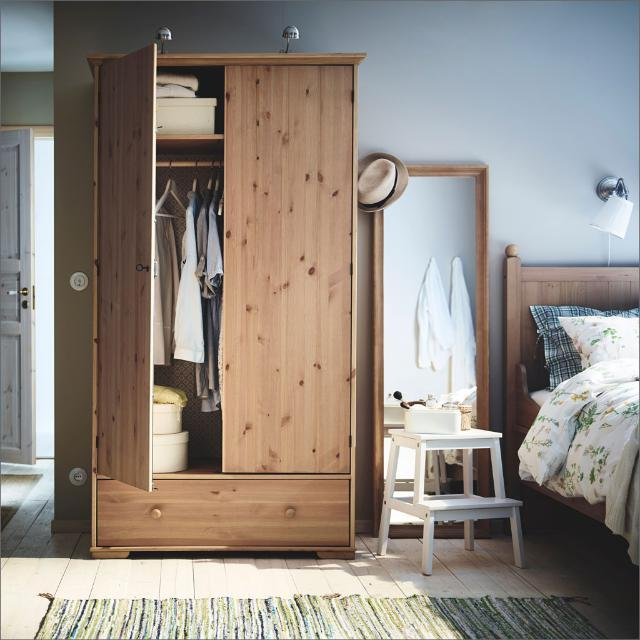bed: (505, 246, 640, 563)
dresser: (89, 45, 363, 558)
lamp: (590, 176, 634, 238)
rug: (36, 595, 604, 640)
stool: (378, 429, 525, 575)
